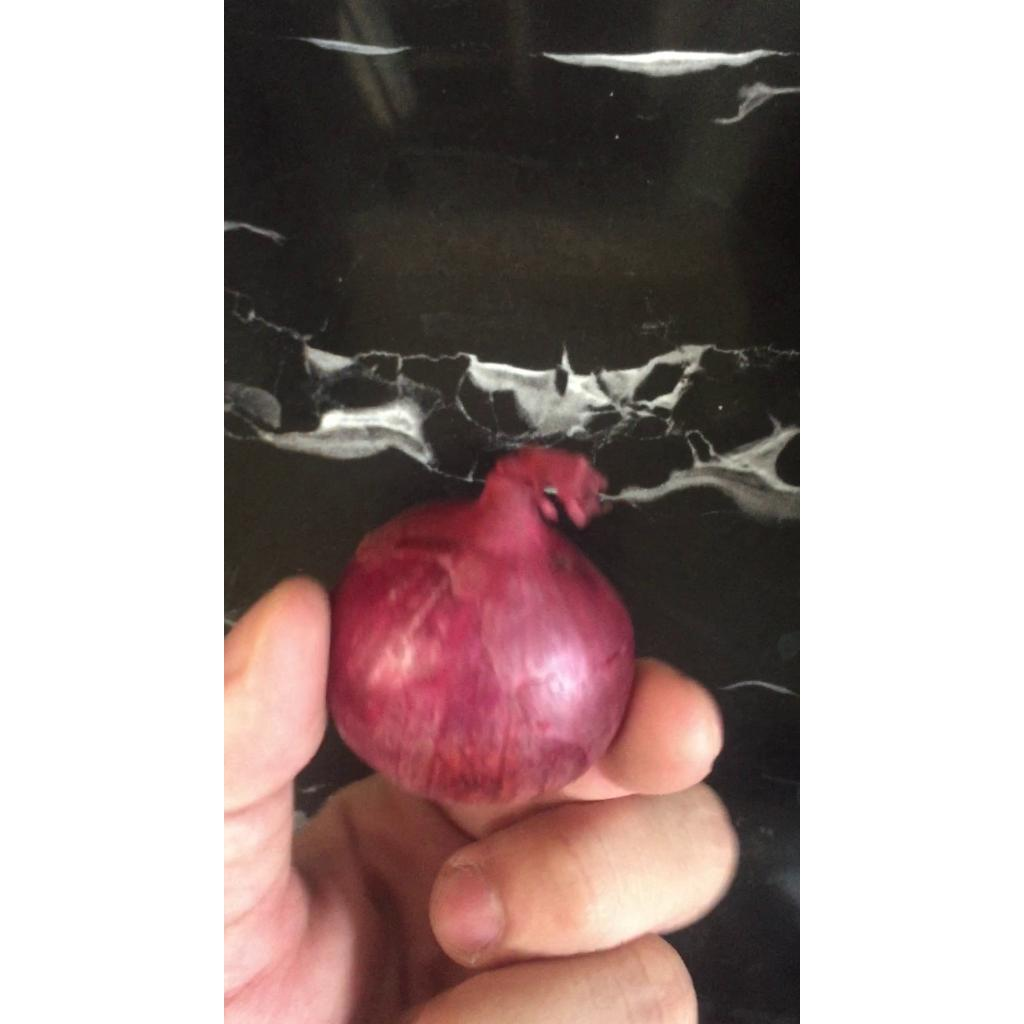Onion: (326, 447, 634, 807)
